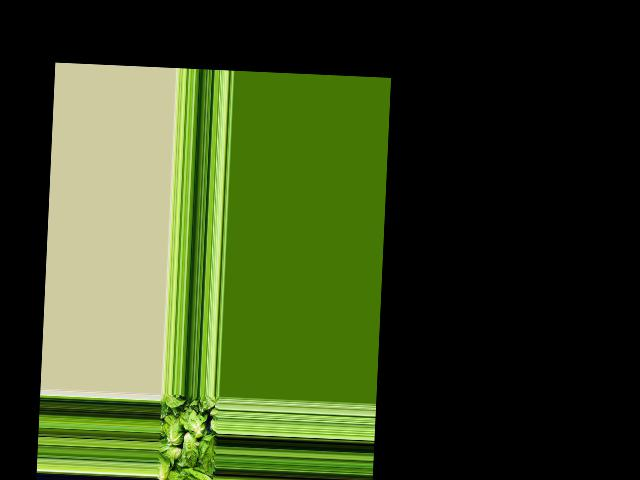lettuce: (157, 451, 172, 480)
